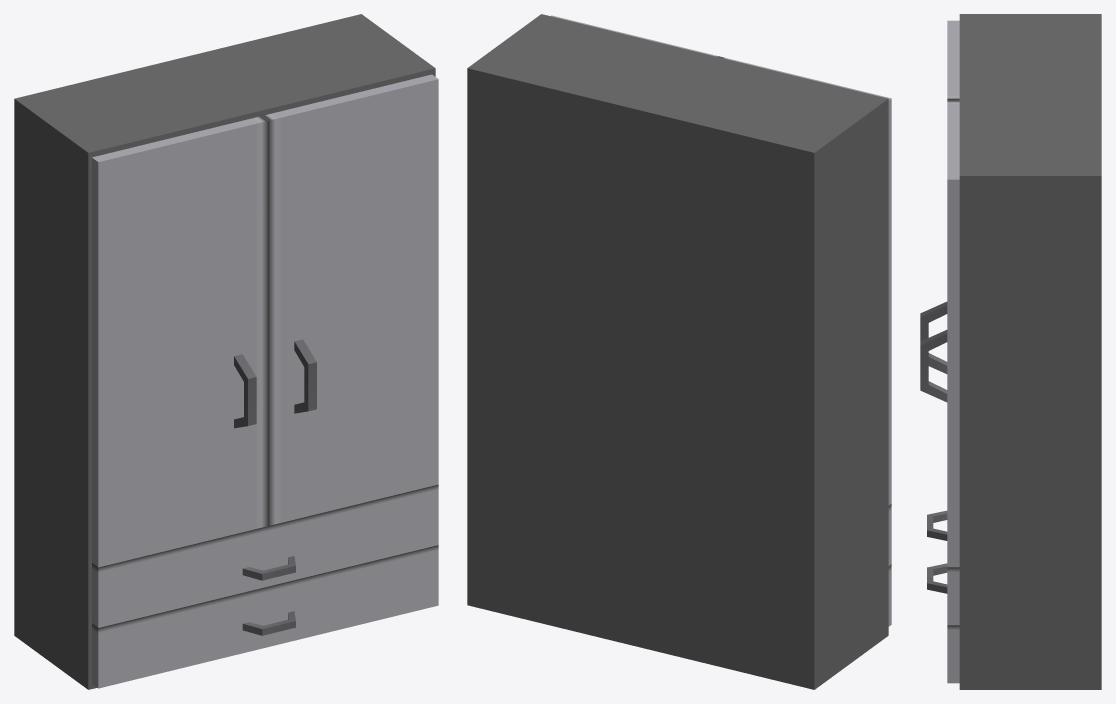
Rendered from WardRobe_2B.fbx.
3 renders of one model, left to right at view 1: azimuth 30°, elevation 25°; view 2: azimuth 150°, elevation 25°; view 3: azimuth 270°, elevation 25°, orthographic. The views are drawn at different scales.
Parts seen in each view (by area): view 1: polySurface1574; view 2: polySurface1574; view 3: polySurface1574.
Part boxes in pixels (left/top/right/bottom): polySurface1574: left=14, top=14, right=438, bottom=689; polySurface1574: left=467, top=14, right=891, bottom=689; polySurface1574: left=920, top=14, right=1101, bottom=689.
Size of the model in its own units: 2.3 by 3.4 by 1.09.
